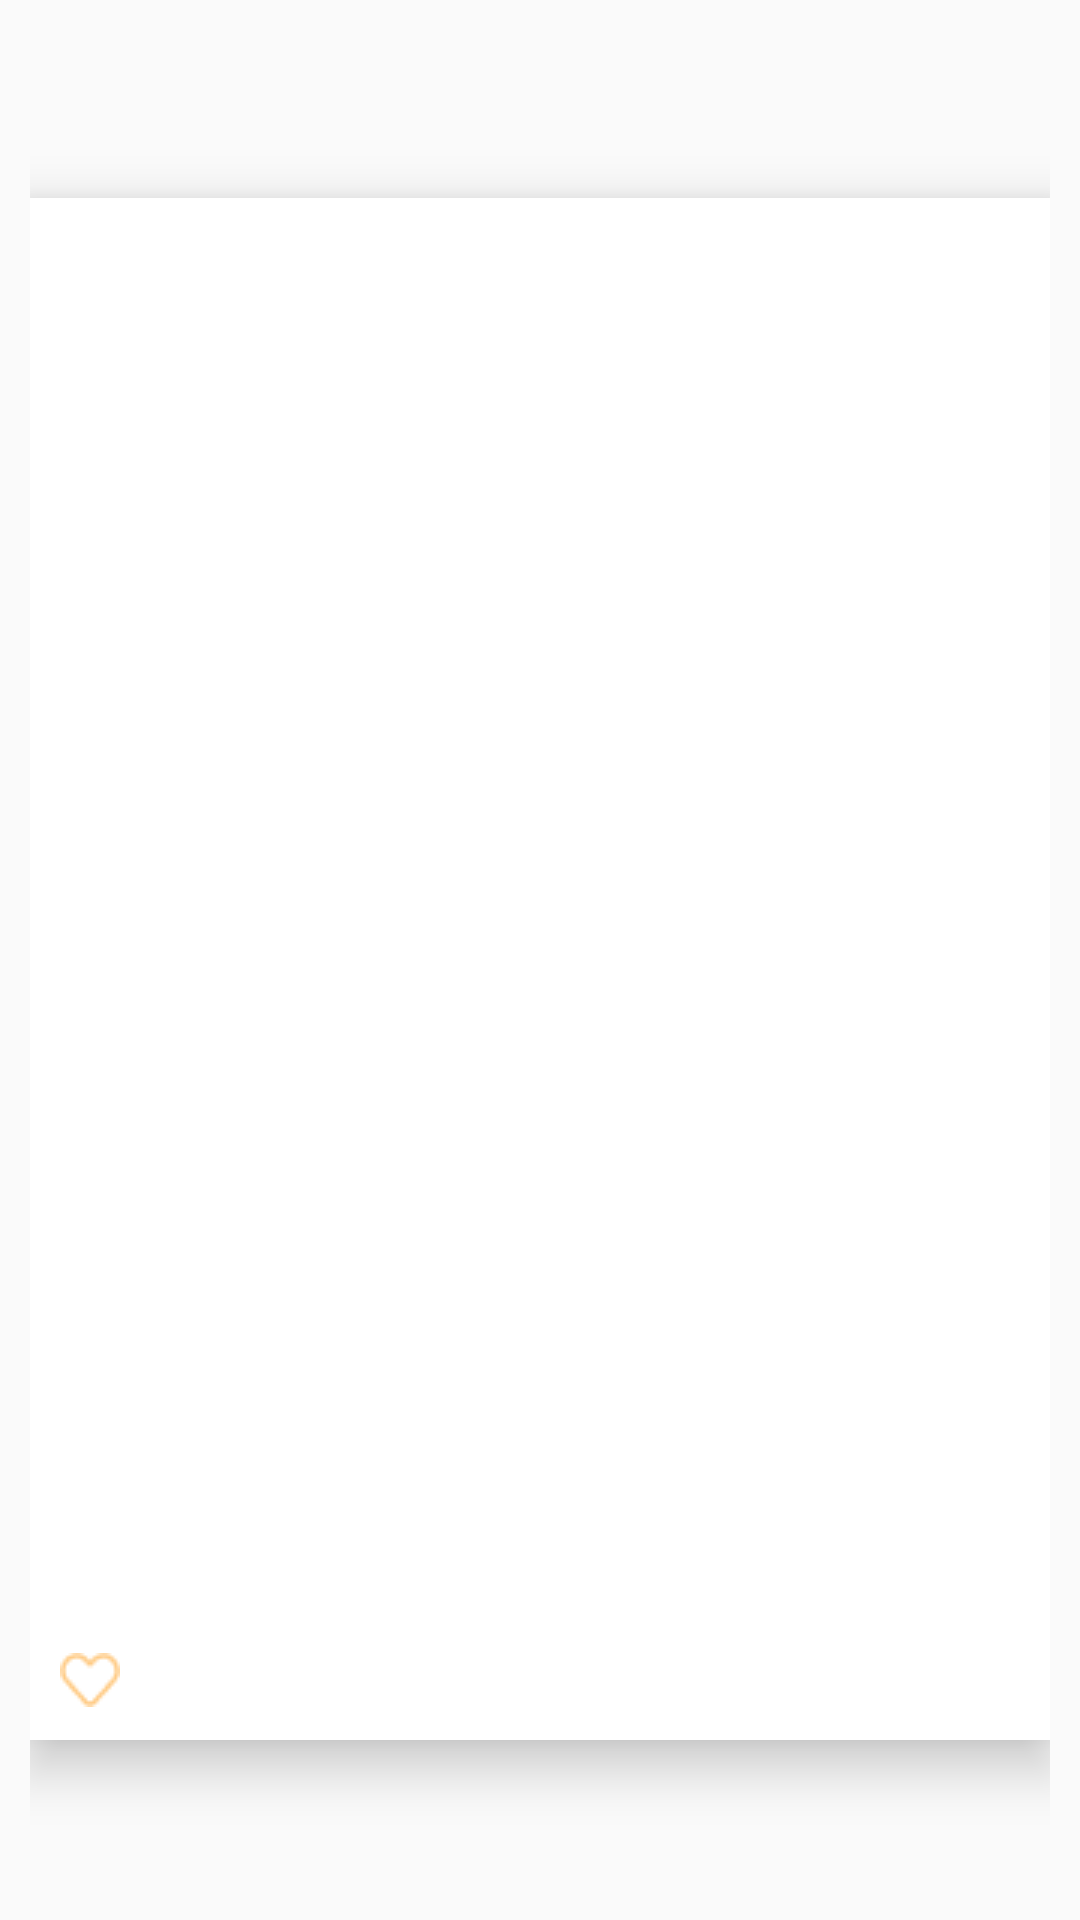

Where icons sit on this 1080 × 1920 app screen, as (x1, y1, x2, y2):
notlike: (60, 1653, 120, 1707)
